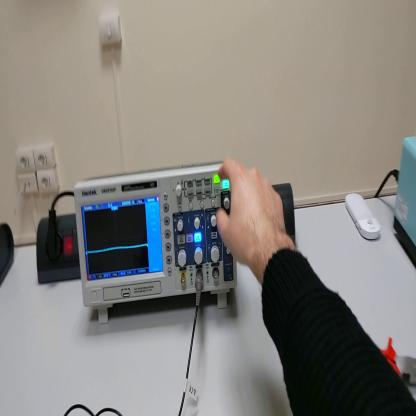hand: (216, 158, 289, 274)
oscilloscope: (73, 159, 238, 323)
pliers: (379, 335, 416, 386)
socket: (34, 215, 80, 287), (1, 221, 17, 285)
welder station: (392, 133, 416, 267)
